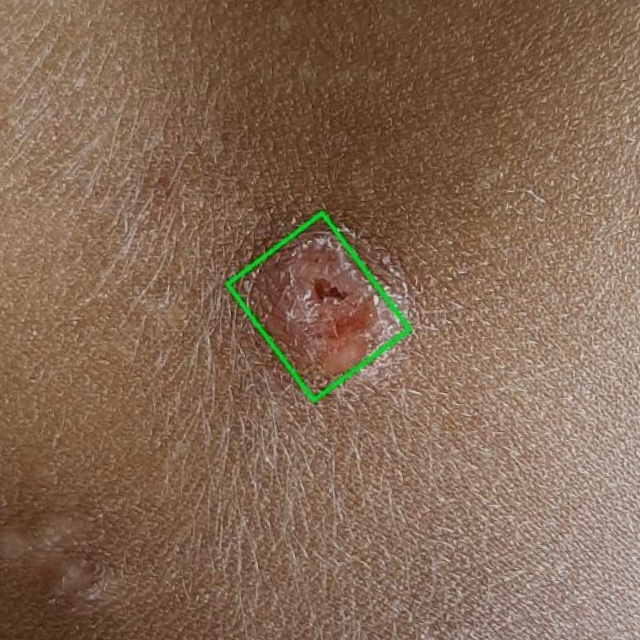Contact Dermatitis: (227, 212, 409, 399)
